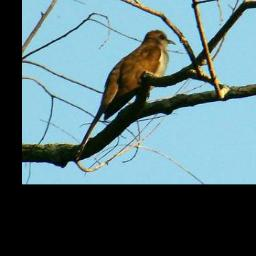Cuckoo: (101, 29, 176, 122)
